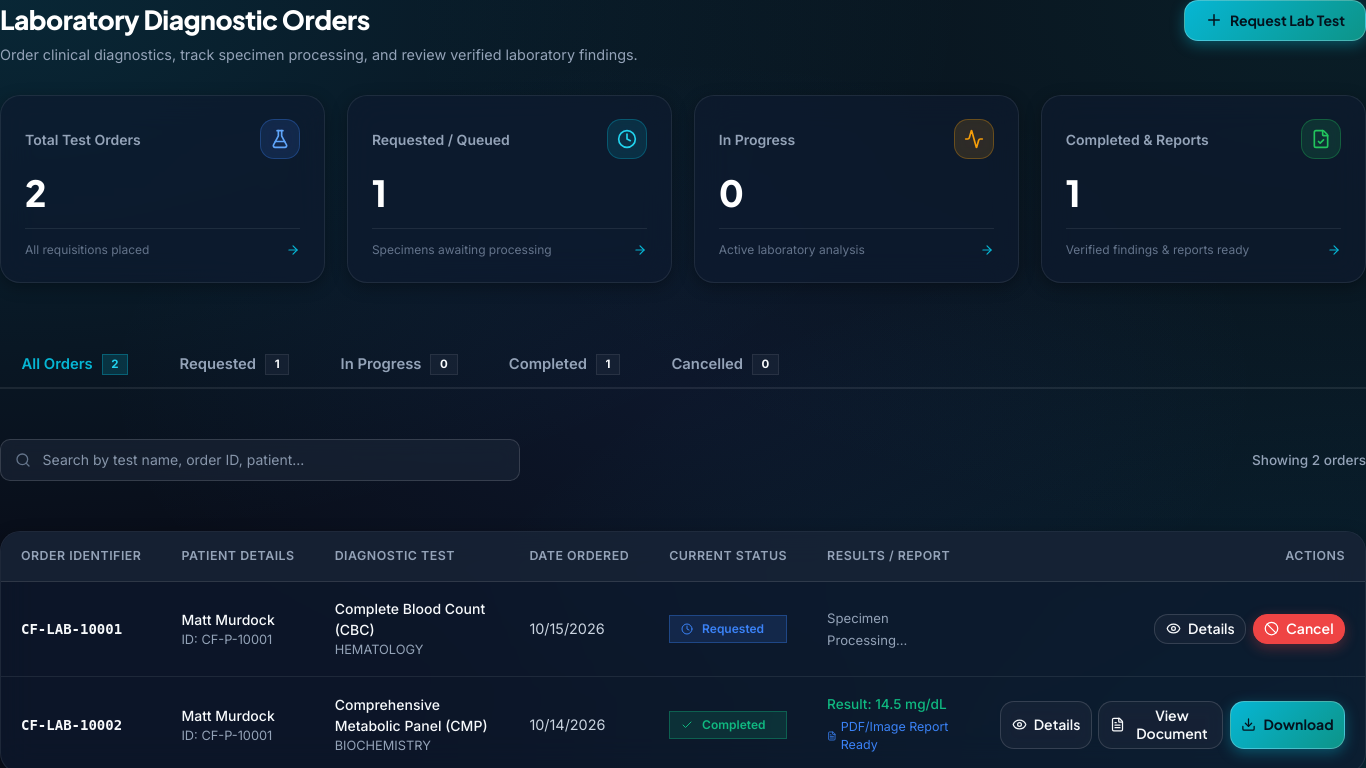
CareFlow HMS — Lab Tests Feature Tests › 2. Doctor Dashboard — Lab Tests Page › opens details modal with structured results and report download
Expected: the text "CF-LAB-10002" is shown, [21, 717, 122, 733]
Click the button "Details" in the row of "CF-LAB-10002" at point(1046, 725), box [1000, 701, 1092, 749]
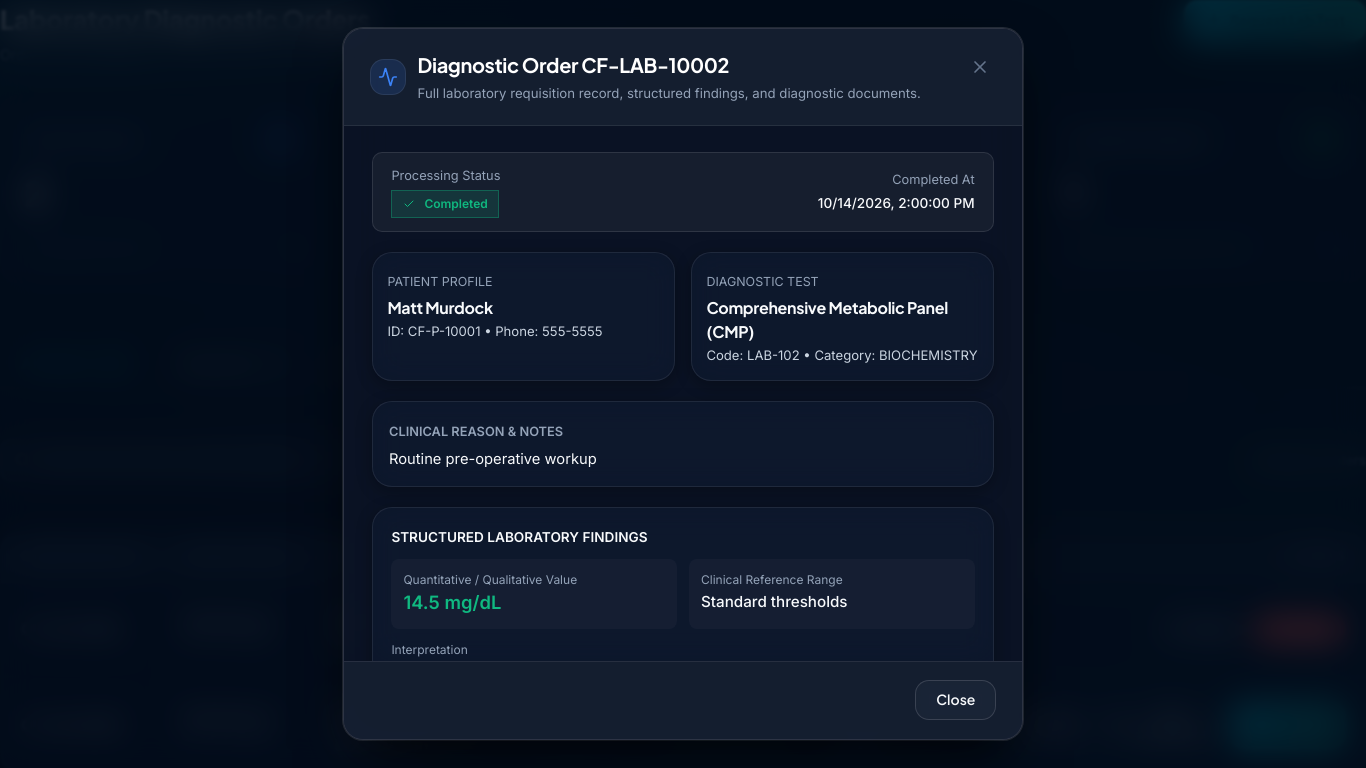
Now the heading "Diagnostic Order CF-LAB-10002" is shown, box [418, 53, 729, 78]
Now the text "Structured Laboratory Findings" is shown, box [391, 527, 648, 547]
